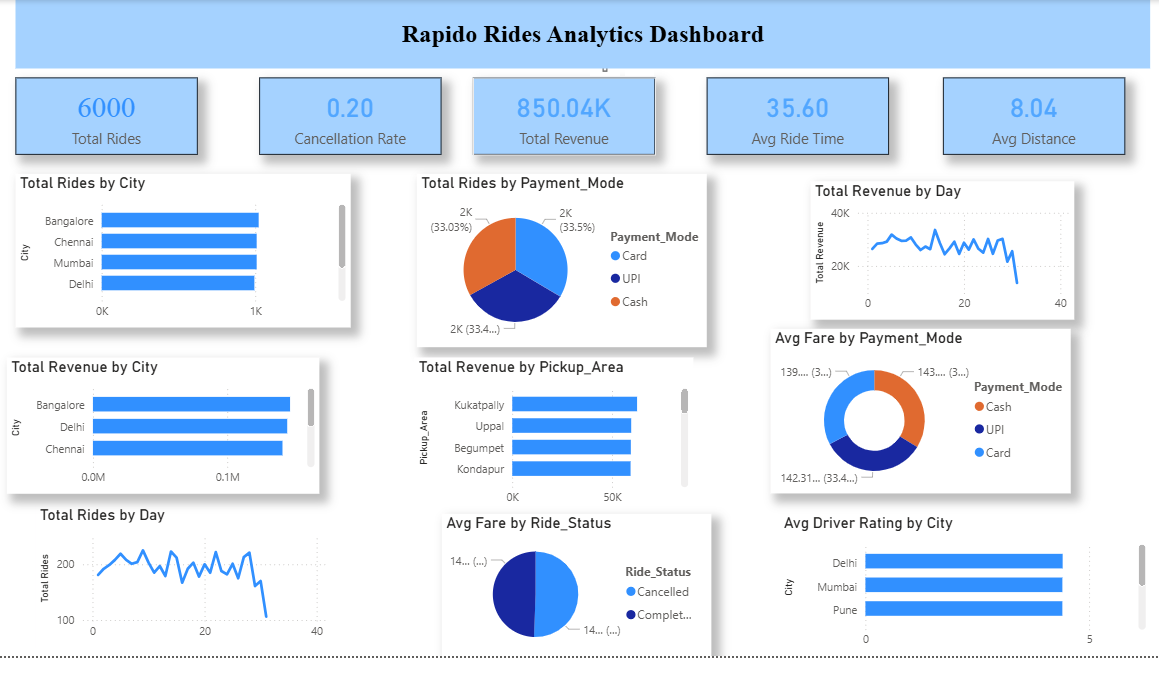

This screenshot's page, from the dashboard's own definition file:
{"tool":"powerbi","page":{"name":"Page 1","canvas":[1280,720],"ordinal":0},"visuals":[{"type":"card","fields":{"Values":["project.Total Rides"]},"box":[19.2,85.1,200.3,85.1],"z":0},{"type":"card","fields":{"Values":["project.Total Revenue"]},"box":[521.4,85.1,200.3,85.1],"z":1000},{"type":"card","fields":{"Values":["project.Cancellation Rate"]},"box":[286.8,85.1,200.3,85.1],"z":2000},{"type":"card","fields":{"Values":["project.Avg Ride Time"]},"box":[778,85.1,200.3,85.1],"z":3000},{"type":"card","fields":{"Values":["project.Avg Distance"]},"box":[1037.4,85.1,200.3,85.1],"z":4000},{"type":"lineChart","fields":{"Category":["project.Date.Variation.Date Hierarchy.Year","project.Date.Variation.Date Hierarchy.Quarter","project.Date.Variation.Date Hierarchy.Month","project.Date.Variation.Date Hierarchy.Day"],"Y":["project.Total Rides"]},"box":[41.2,554.4,323.8,156.4],"z":5000},{"type":"barChart","fields":{"Category":["project.City"],"Y":["project.Total Rides"]},"box":[19.2,190.7,367.8,168.8],"z":6000},{"type":"pieChart","fields":{"Category":["project.Payment_Mode"],"Y":["project.Total Rides"]},"box":[459.7,190.7,318.4,190.7],"z":7000},{"type":"barChart","fields":{"Category":["project.City"],"Y":["project.Total Revenue"]},"box":[9.6,392.5,343.1,149.6],"z":8000},{"type":"barChart","fields":{"Category":["project.Pickup_Area"],"Y":["project.Total Revenue"]},"box":[456.9,392.5,306,171.5],"z":9000},{"type":"lineChart","fields":{"Category":["project.Date.Variation.Date Hierarchy.Year","project.Date.Variation.Date Hierarchy.Quarter","project.Date.Variation.Date Hierarchy.Month","project.Date.Variation.Date Hierarchy.Day"],"Y":["project.Total Revenue"]},"box":[891.9,199,289.5,152.3],"z":10000},{"type":"donutChart","fields":{"Category":["project.Payment_Mode"],"Y":["project.Avg Fare"]},"box":[848,360.9,329.3,181.1],"z":12000},{"type":"pieChart","fields":{"Category":["project.Ride_Status"],"Y":["project.Avg Fare"]},"box":[487.1,564,296.4,156.4],"z":14000},{"type":"barChart","fields":{"Y":["project.Avg Driver Rating"],"Category":["project.City"]},"box":[857.6,564,407.5,156.4],"z":16000},{"type":"textbox","box":[19.2,0,1246,75.5],"z":17000}]}

Visuals, with their boxes on the page's 1280x720 design canvas (x1, y1, x2, y2). These are canvas units, not pixel positions in the 1159x675 screenshot, which may show the page scaled, cropped or inside an application window:
card - project.Total Rides: 19/85/220/170
card - project.Total Revenue: 521/85/722/170
card - project.Cancellation Rate: 287/85/487/170
card - project.Avg Ride Time: 778/85/978/170
card - project.Avg Distance: 1037/85/1238/170
lineChart - project.Date.Variation.Date Hierarchy.Year x project.Date.Variation.Date Hierarchy.Quarter: 41/554/365/711
barChart - project.City x project.Total Rides: 19/191/387/360
pieChart - project.Payment_Mode x project.Total Rides: 460/191/778/381
barChart - project.City x project.Total Revenue: 10/392/353/542
barChart - project.Pickup_Area x project.Total Revenue: 457/392/763/564
lineChart - project.Date.Variation.Date Hierarchy.Year x project.Date.Variation.Date Hierarchy.Quarter: 892/199/1181/351
donutChart - project.Payment_Mode x project.Avg Fare: 848/361/1177/542
pieChart - project.Ride_Status x project.Avg Fare: 487/564/784/720
barChart - project.Avg Driver Rating x project.City: 858/564/1265/720
textbox: 19/0/1265/76
